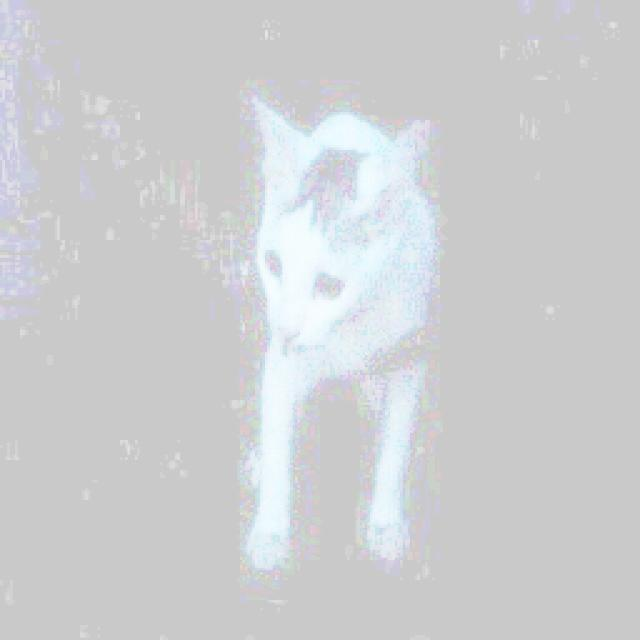cat: (195, 60, 476, 597)
